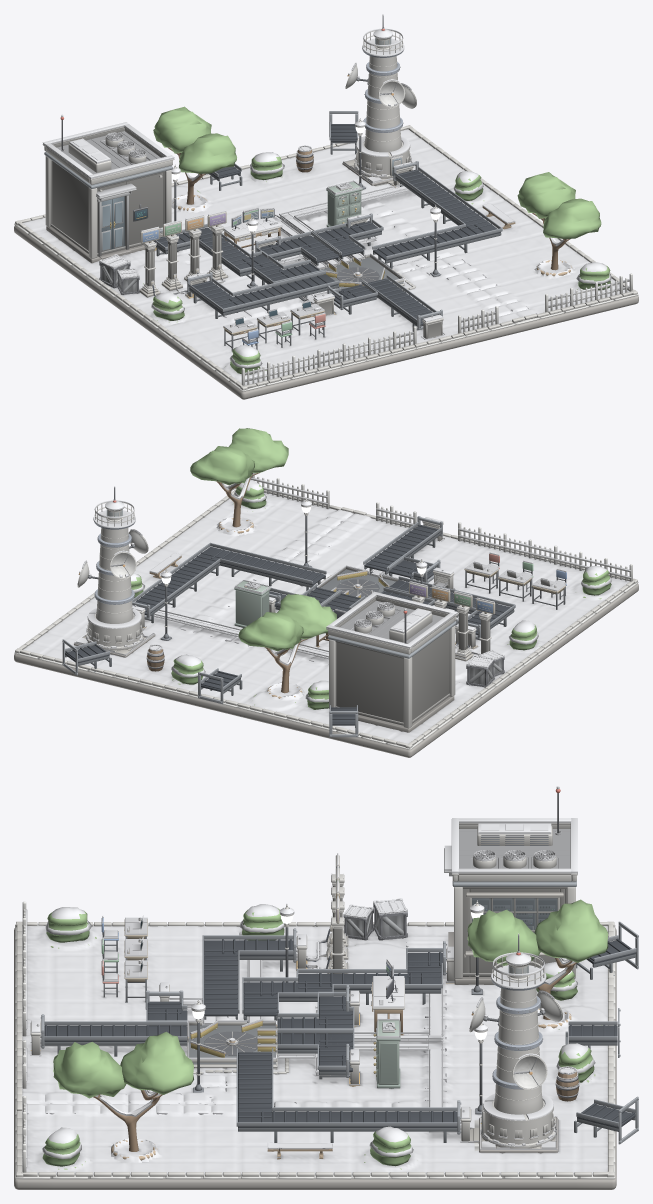
The model's file is vault.glb.
The picture shows the model from 3 angles, top to bottom: view 1: azimuth 30°, elevation 25°; view 2: azimuth 150°, elevation 25°; view 3: azimuth 270°, elevation 25°; orthographic projection. The views are drawn at different scales.
Parts seen in each view (by area): view 1: Snow_ground_vlt, Server_shell, Snow_props_vlt, Ground_base_vault, Ground_curb, Foliage_tree_NW_vault, Foliage_tree_SE, Snow_roof_server, Fence_south_vault, Domain_pillars, Relay_tower, Belt_Sub_Relay_bed (+19 smaller); view 2: Snow_ground_vlt, Server_shell, Ground_base_vault, Ground_curb, Snow_props_vlt, Foliage_tree_SE, Foliage_tree_NW_vault, Snow_roof_server, Fence_south_vault, Relay_tower, Belt_Sub_Relay_bed, Domain_pillars (+16 smaller); view 3: Snow_ground_vlt, Snow_props_vlt, Ground_base_vault, Ground_curb, Foliage_tree_SE, Foliage_tree_NW_vault, Snow_roof_server, Server_shell, Relay_tower, Belt_Sub_Relay_bed, Ground_paving_vault, Belt_Sub_Server_bed (+38 smaller).
Boxes of the visible parts, bbox=[...] form: Snow_ground_vlt: bbox=[23, 129, 629, 385]; Server_shell: bbox=[42, 127, 174, 263]; Snow_props_vlt: bbox=[99, 118, 515, 343]; Ground_base_vault: bbox=[14, 225, 638, 399]; Ground_curb: bbox=[15, 125, 637, 390]; Foliage_tree_NW_vault: bbox=[153, 106, 236, 204]; Foliage_tree_SE: bbox=[517, 172, 601, 270]; Snow_roof_server: bbox=[42, 114, 174, 197]; Fence_south_vault: bbox=[241, 273, 632, 385]; Domain_pillars: bbox=[139, 212, 227, 297]; Relay_tower: bbox=[363, 56, 403, 152]; Belt_Sub_Relay_bed: bbox=[373, 169, 500, 260]; Snow_ground_vlt: bbox=[23, 492, 629, 743]; Server_shell: bbox=[326, 596, 457, 732]; Ground_base_vault: bbox=[14, 583, 638, 757]; Ground_curb: bbox=[15, 489, 637, 748]; Snow_props_vlt: bbox=[132, 497, 566, 667]; Foliage_tree_SE: bbox=[190, 428, 288, 527]; Foliage_tree_NW_vault: bbox=[238, 594, 336, 692]; Snow_roof_server: bbox=[326, 591, 457, 648]; Fence_south_vault: bbox=[250, 475, 632, 581]; Relay_tower: bbox=[94, 527, 134, 623]; Belt_Sub_Relay_bed: bbox=[132, 546, 325, 614]; Domain_pillars: bbox=[409, 582, 495, 661]; Snow_ground_vlt: bbox=[22, 925, 607, 1174]; Snow_props_vlt: bbox=[30, 853, 579, 1157]; Ground_base_vault: bbox=[14, 928, 616, 1189]; Ground_curb: bbox=[16, 921, 614, 1177]; Foliage_tree_SE: bbox=[53, 1031, 193, 1151]; Foliage_tree_NW_vault: bbox=[467, 899, 608, 1019]; Snow_roof_server: bbox=[444, 786, 577, 873]; Server_shell: bbox=[451, 823, 577, 984]; Relay_tower: bbox=[492, 988, 543, 1114]; Belt_Sub_Relay_bed: bbox=[238, 1052, 457, 1127]; Ground_paving_vault: bbox=[15, 924, 615, 1179]; Belt_Sub_Server_bed: bbox=[243, 953, 442, 1016].
Bounding box in the file's own units: 16 × 6.33 × 16.6.
